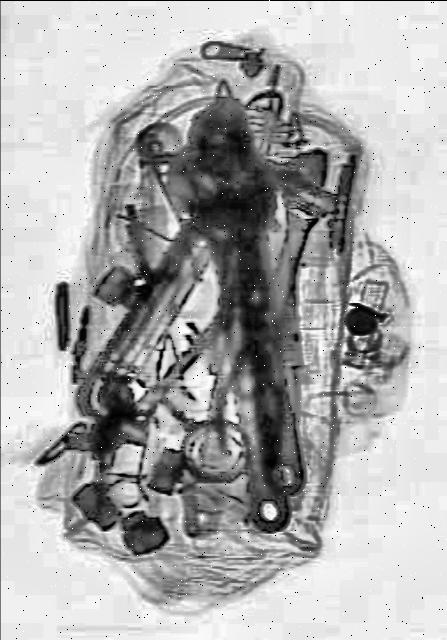Wrench: (239, 130, 343, 312)
